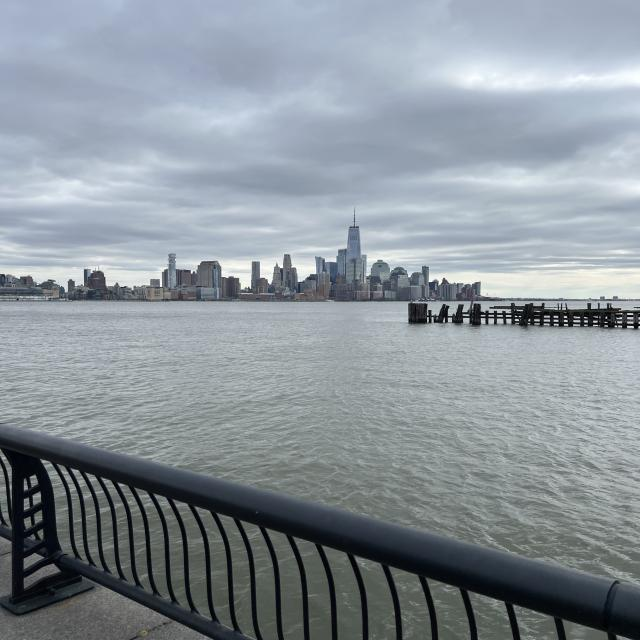WTC: (346, 207, 362, 258)
